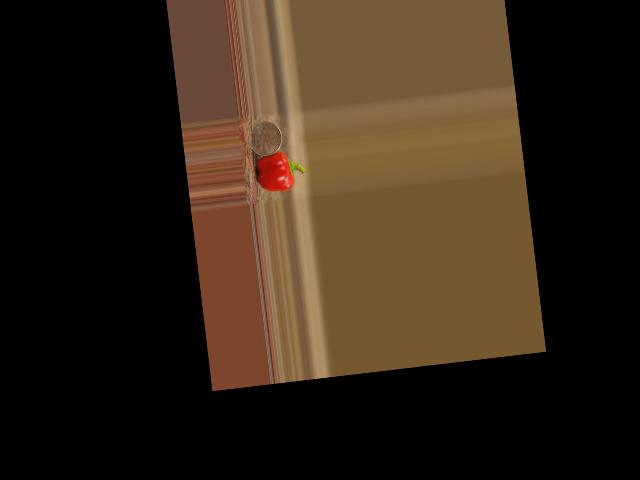bell_pepper: (252, 150, 307, 194)
